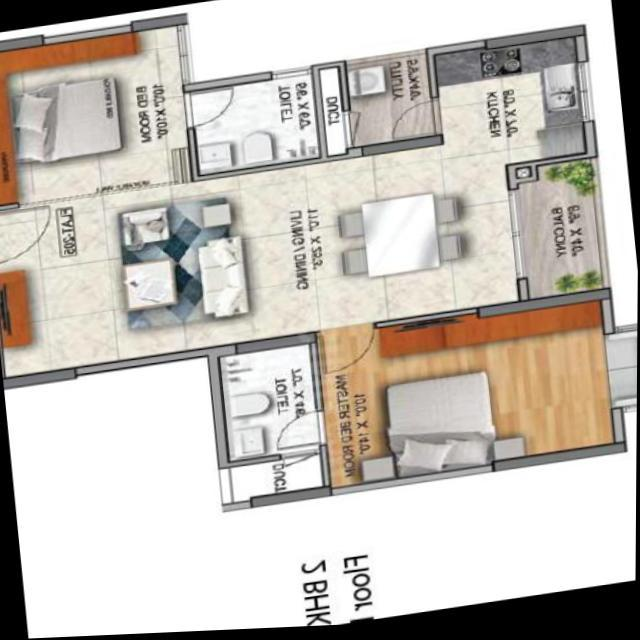Balcony-Sitout: (502, 155, 613, 317)
Bedroom: (0, 11, 204, 209)
Bedroom with Toilet: (305, 288, 625, 501)
Dining: (333, 191, 471, 286)
Kitchen: (425, 30, 594, 186)
Living: (0, 172, 255, 383)
Toilet: (204, 335, 329, 515), (182, 66, 327, 183)
Utility: (334, 49, 440, 165)
